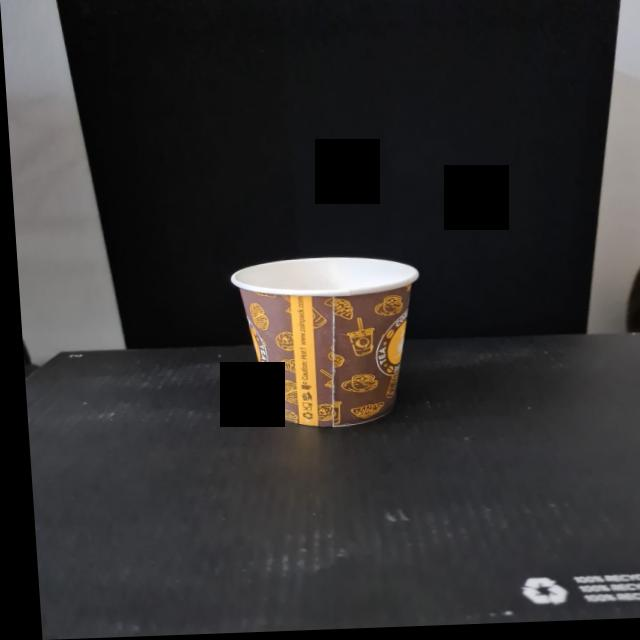cups: (211, 243, 445, 446)
